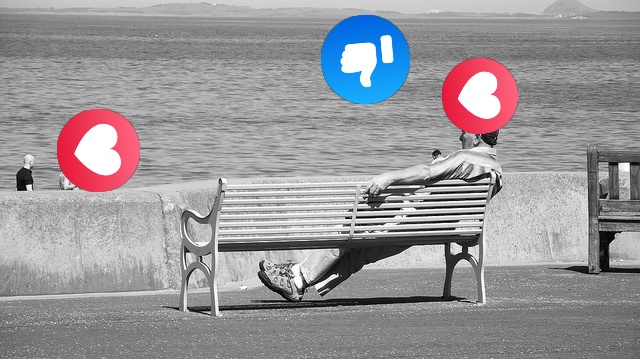like: (321, 15, 410, 104)
love: (57, 109, 140, 192), (442, 58, 518, 134)
